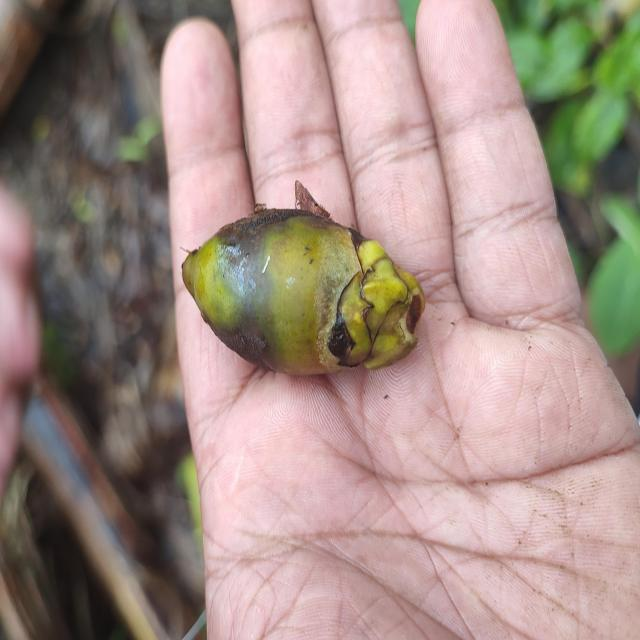damaged: (181, 209, 425, 379)
